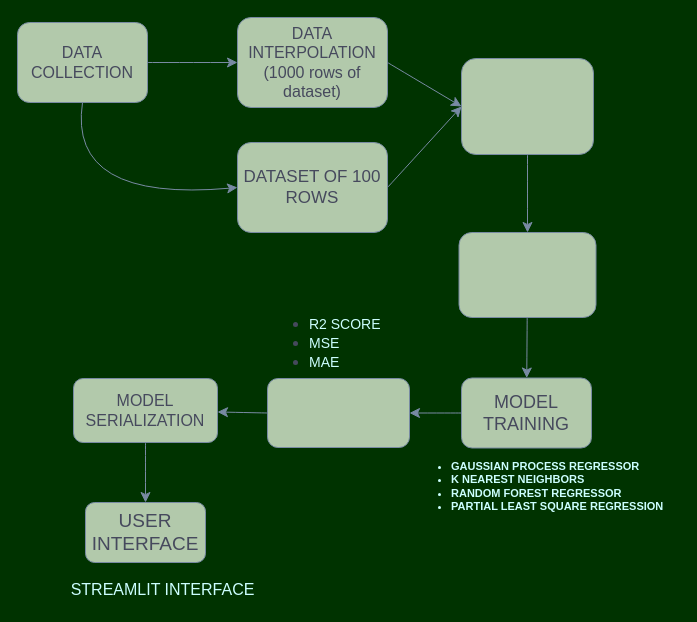
Image size: 697x622. Some labels were removed from this diagram. The shapes that lost their labels are listed below. From the top down, each one's centre as x and y in pixels, then its label:
At (527,106): "DATA PRE-PROCESSING".
At (527,275): "FEATURE ENGINEERING".
At (338,413): "TESTING AND EVALUATION".
